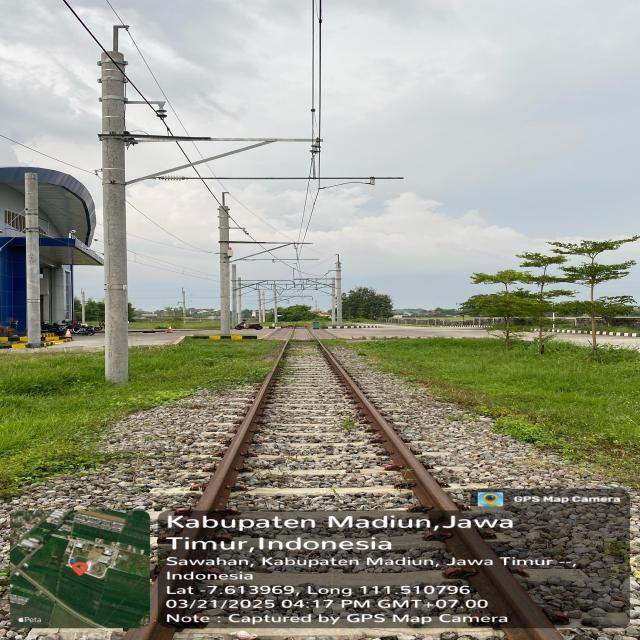rail-detection: (325, 350, 463, 524), (443, 528, 562, 640), (195, 359, 279, 514)
